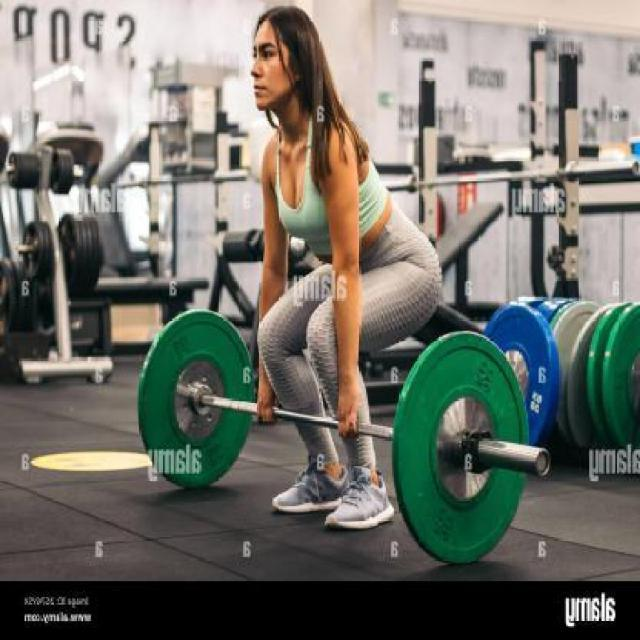Barbell: (528, 437, 556, 485)
